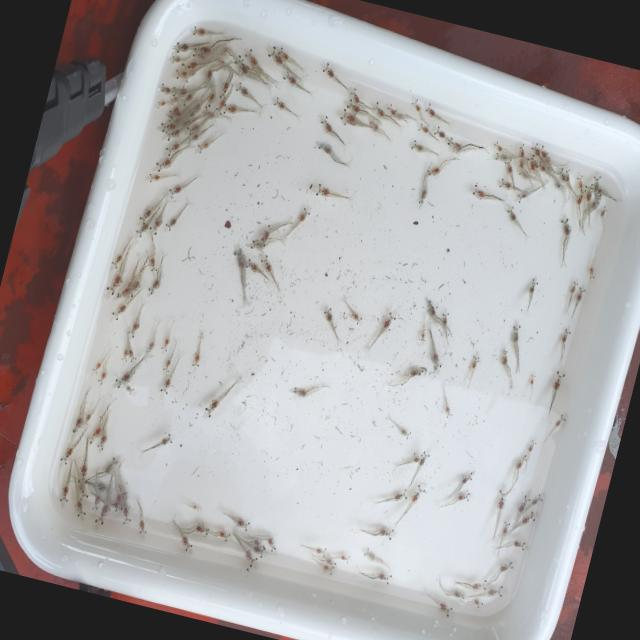babyshrimp: (91, 498, 111, 528), (356, 570, 392, 586), (201, 394, 220, 422), (102, 272, 121, 297), (515, 490, 531, 517), (241, 543, 258, 568), (372, 523, 394, 542), (380, 308, 396, 334), (434, 600, 453, 621), (58, 443, 74, 467), (408, 483, 425, 505), (557, 214, 572, 238), (75, 458, 87, 488), (458, 469, 476, 489), (494, 488, 509, 512), (495, 557, 513, 577), (157, 375, 173, 397), (444, 135, 463, 153), (113, 370, 131, 389), (265, 44, 281, 65), (232, 52, 248, 73), (157, 429, 173, 450), (83, 426, 99, 447), (232, 243, 244, 270), (144, 280, 161, 299), (109, 302, 126, 321), (319, 59, 335, 79), (160, 215, 176, 235), (317, 113, 332, 134), (148, 214, 162, 236), (338, 107, 355, 125), (153, 157, 171, 174), (248, 541, 266, 558), (453, 489, 470, 507), (517, 509, 535, 526), (312, 139, 331, 155), (163, 138, 179, 157), (242, 46, 257, 66), (120, 503, 132, 528), (179, 531, 193, 552), (408, 136, 424, 154), (281, 67, 297, 85), (468, 577, 486, 593), (551, 370, 564, 392), (360, 545, 374, 565), (559, 324, 571, 347), (258, 252, 271, 273), (314, 181, 330, 198), (233, 515, 250, 531), (485, 584, 502, 600), (233, 79, 248, 97), (407, 364, 426, 378), (137, 207, 151, 226), (94, 433, 108, 452), (513, 453, 527, 472), (509, 321, 520, 345), (128, 317, 140, 339), (527, 277, 538, 301), (573, 285, 586, 305), (95, 368, 108, 388), (469, 182, 485, 198), (193, 521, 210, 536), (179, 60, 196, 75), (423, 296, 434, 319), (429, 351, 441, 372), (350, 309, 364, 327), (271, 94, 285, 112), (194, 139, 208, 157), (73, 499, 86, 518), (136, 516, 147, 538), (391, 487, 407, 502), (312, 543, 328, 558), (417, 185, 427, 209), (133, 221, 147, 238), (552, 413, 566, 430), (466, 597, 483, 611), (416, 449, 429, 467), (89, 493, 100, 514), (257, 228, 269, 247), (397, 425, 412, 440), (344, 97, 359, 112), (514, 189, 528, 205), (213, 529, 229, 543), (371, 100, 384, 117), (297, 205, 310, 222), (167, 184, 180, 201), (469, 353, 480, 373), (58, 483, 69, 503), (498, 518, 509, 538), (347, 85, 359, 103), (189, 351, 201, 369), (157, 336, 169, 354), (504, 204, 516, 222), (501, 158, 513, 176), (109, 252, 121, 270), (243, 258, 258, 272), (160, 356, 171, 375), (214, 96, 225, 115), (498, 346, 507, 368), (567, 279, 578, 297), (512, 538, 526, 552), (291, 385, 306, 398), (416, 120, 429, 135), (221, 102, 236, 115), (184, 123, 199, 136), (433, 124, 445, 140), (449, 588, 465, 600), (530, 490, 542, 506), (442, 402, 452, 421), (321, 305, 332, 322), (410, 96, 421, 113), (275, 45, 288, 59), (123, 383, 137, 396), (497, 177, 511, 190), (266, 534, 276, 552), (90, 359, 102, 374), (525, 437, 537, 452), (174, 41, 189, 53), (591, 174, 601, 191), (525, 154, 535, 171), (339, 551, 351, 565), (191, 24, 205, 36), (367, 119, 378, 134), (439, 310, 448, 328), (425, 101, 435, 117), (426, 165, 439, 177), (321, 563, 333, 576), (324, 556, 337, 568), (190, 502, 201, 516), (127, 345, 136, 362), (516, 139, 524, 158), (586, 265, 596, 280), (530, 141, 539, 157), (158, 82, 170, 94), (146, 172, 159, 183), (417, 330, 426, 345), (598, 203, 607, 218), (411, 453, 422, 465), (384, 102, 394, 115), (491, 139, 501, 151), (169, 54, 181, 63), (575, 173, 582, 188), (528, 372, 535, 385), (155, 100, 165, 109)
